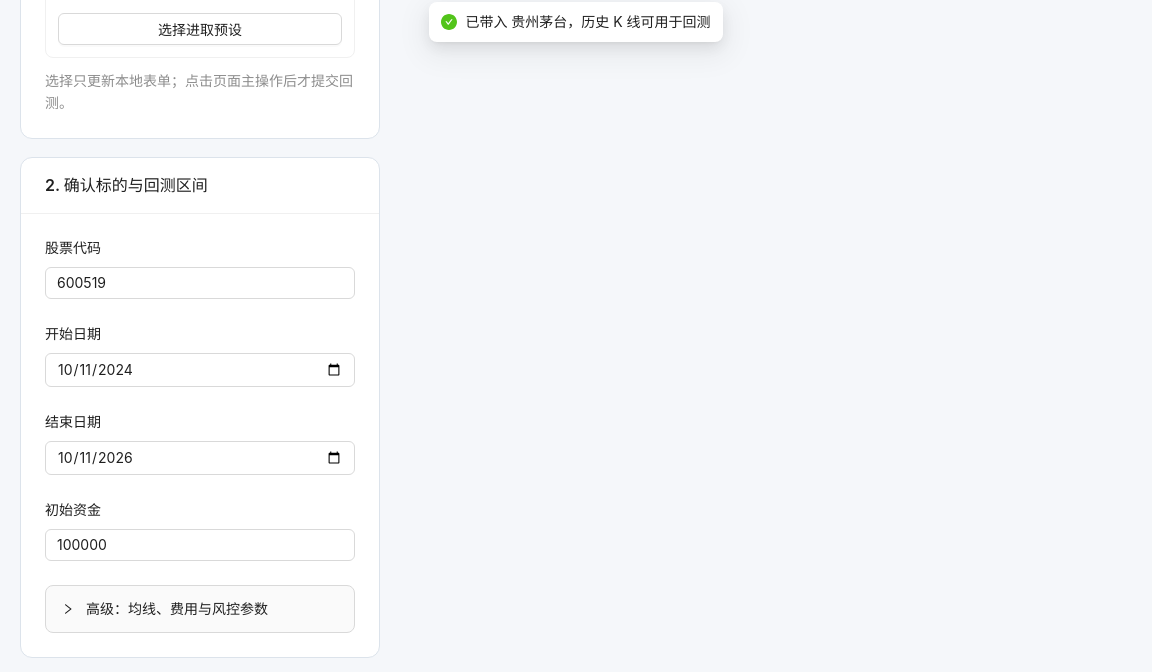
it: StrategyLab › prefills symbol, validated MA parameters, and the strategy prompt from a Knowledge link
This screenshot has width=1152, height=672.
(page scrolled)
Expected: the field named "股票代码" holds "600519", [45,267,355,299]
Click the button "高级：均线、费用与风控参数" at (165, 609), box [62,600,268,617]
(page scrolled)
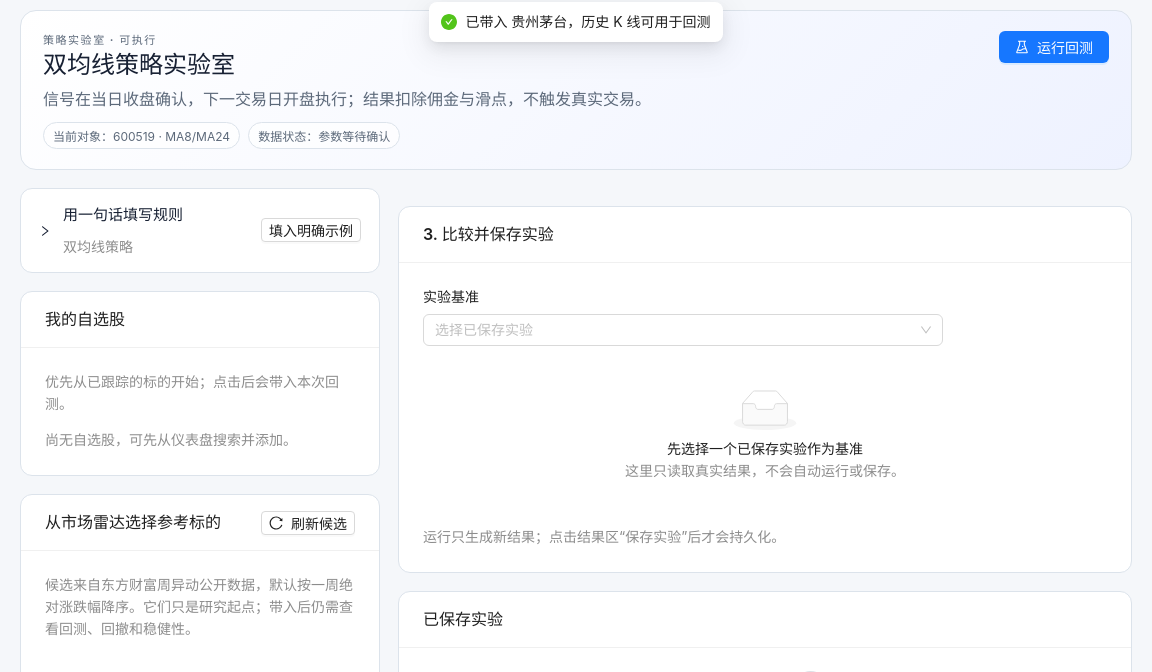
Click the text "用一句话填写规则" at (123, 214), box [63,205,183,224]
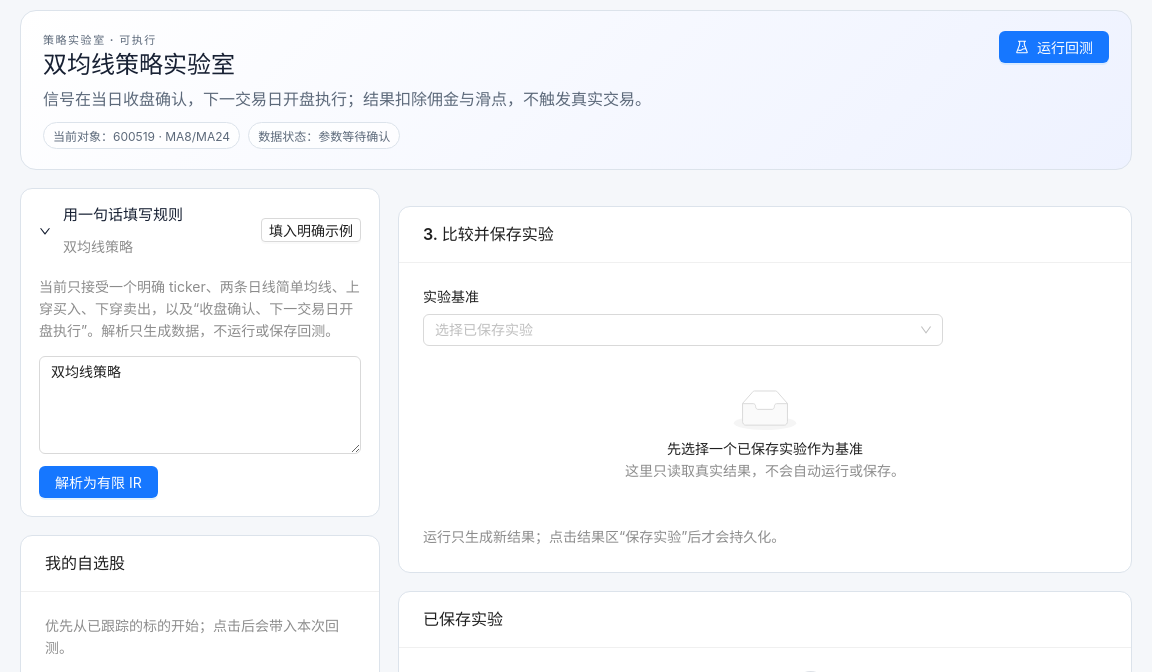
Expected: the text box named "策略描述" holds "双均线策略", [39,356,361,454]
